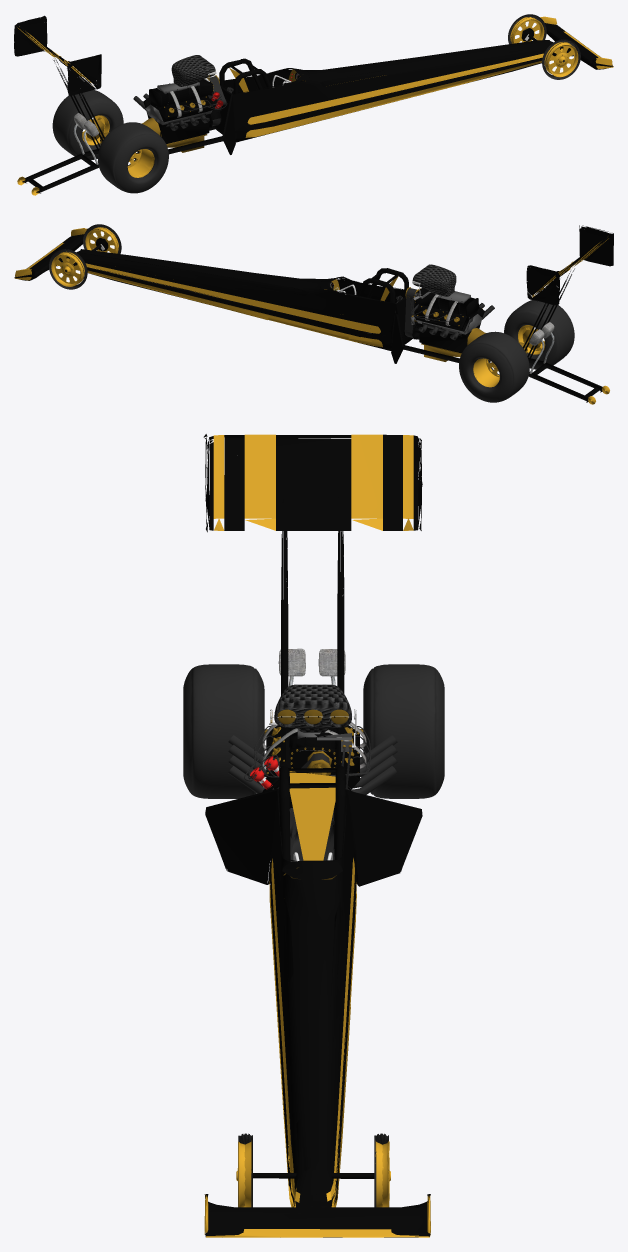
File: veh-dragster.glb
3 views of the same model, one above another, from view 1: azimuth 30°, elevation 25°; view 2: azimuth 150°, elevation 25°; view 3: azimuth 270°, elevation 25° (orthographic). The views are drawn at different scales.
Parts seen in each view (by area): view 1: Object_4, Object_5, Object_117, Object_37, Object_113, Object_50, Object_56, Object_119, Object_22, Object_58, Object_115, Object_7 (+4 smaller); view 2: Object_4, Object_5, Object_113, Object_50, Object_117, Object_37, Object_56, Object_119, Object_7, Object_58, Object_111, Object_57 (+5 smaller); view 3: Object_4, Object_50, Object_113, Object_117, Object_51, Object_5, Object_37, Object_40, Object_58, Object_56, Object_119.
Boxes of the visible parts, box(x1,y1,x2,y2) form: Object_4: box(213, 23, 613, 154); Object_5: box(245, 16, 613, 137); Object_117: box(98, 122, 168, 193); Object_37: box(25, 56, 271, 192); Object_113: box(52, 90, 123, 160); Object_50: box(14, 15, 101, 95); Object_56: box(143, 79, 214, 143); Object_119: box(171, 55, 215, 86); Object_22: box(544, 42, 578, 77); Object_58: box(133, 76, 226, 130); Object_115: box(127, 149, 154, 177); Object_7: box(510, 17, 544, 43); Object_4: box(14, 229, 416, 363); Object_5: box(14, 228, 382, 347); Object_113: box(459, 331, 529, 402); Object_50: box(526, 225, 613, 305); Object_117: box(504, 300, 574, 369); Object_37: box(357, 268, 602, 400); Object_56: box(414, 287, 484, 353); Object_119: box(412, 264, 456, 296); Object_7: box(51, 251, 84, 286); Object_58: box(404, 288, 494, 340); Object_111: box(473, 358, 499, 387); Object_57: box(410, 291, 482, 334); Object_4: box(204, 788, 430, 1237); Object_50: box(203, 434, 422, 532); Object_113: box(363, 664, 444, 798); Object_117: box(183, 664, 264, 798); Object_51: box(213, 434, 413, 530); Object_5: box(204, 858, 430, 1237); Object_37: box(279, 497, 346, 978); Object_40: box(289, 771, 335, 860); Object_58: box(228, 735, 397, 794); Object_56: box(266, 725, 359, 790); Object_119: box(274, 684, 351, 732).
Bounding box in the file's own units: 17.09 × 4.25 × 3.46.
Materials: 91 (4 with a texture image).
